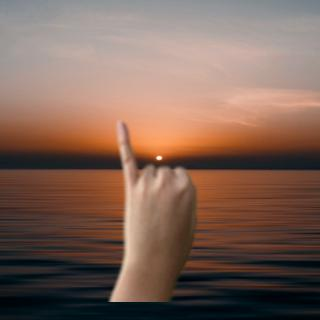Fine: (99, 116, 205, 300)
